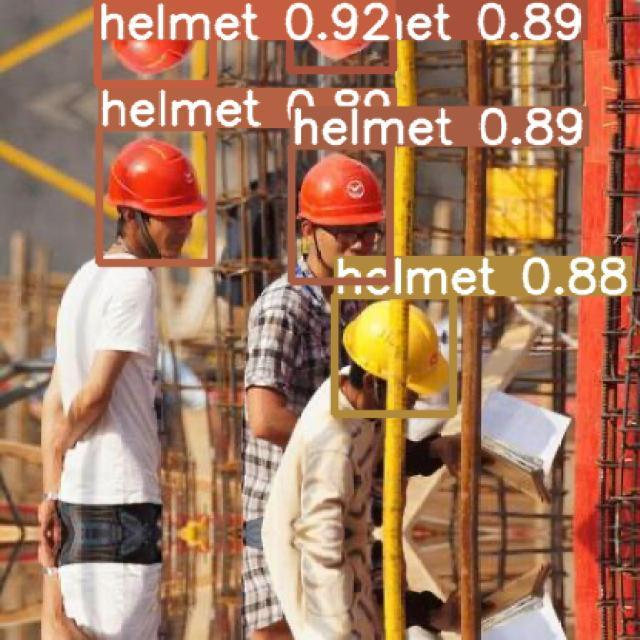red helmet: (107, 137, 210, 235), (296, 151, 391, 245), (109, 27, 213, 79), (296, 21, 395, 71)
yellow helmet: (343, 300, 453, 407)
